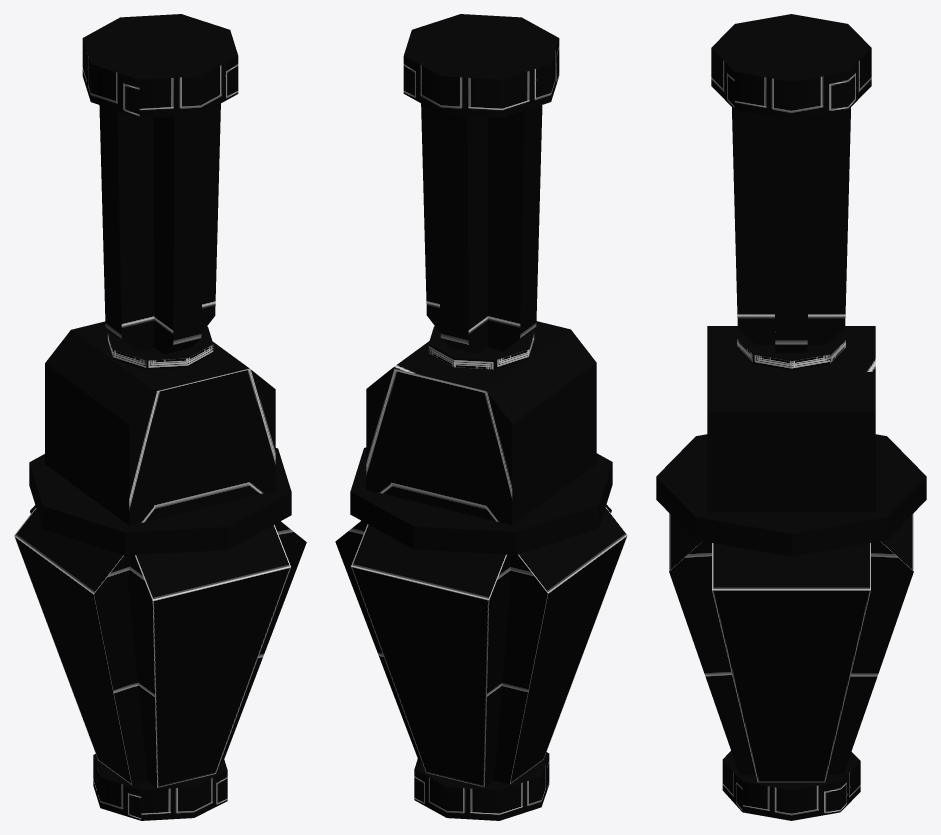
File: scifiPin.fbx
The picture shows the model from 3 angles, left to right: view 1: azimuth 30°, elevation 25°; view 2: azimuth 150°, elevation 25°; view 3: azimuth 270°, elevation 25°; orthographic projection.
Parts seen in each view (by area): view 1: SciFiPin; view 2: SciFiPin; view 3: SciFiPin.
Boxes of the visible parts, left/top/right/bottom form: SciFiPin: left=14, top=14, right=306, bottom=820; SciFiPin: left=335, top=14, right=627, bottom=820; SciFiPin: left=656, top=14, right=926, bottom=820.
Size of the model in its own units: 2.28 by 6.9 by 2.28.
